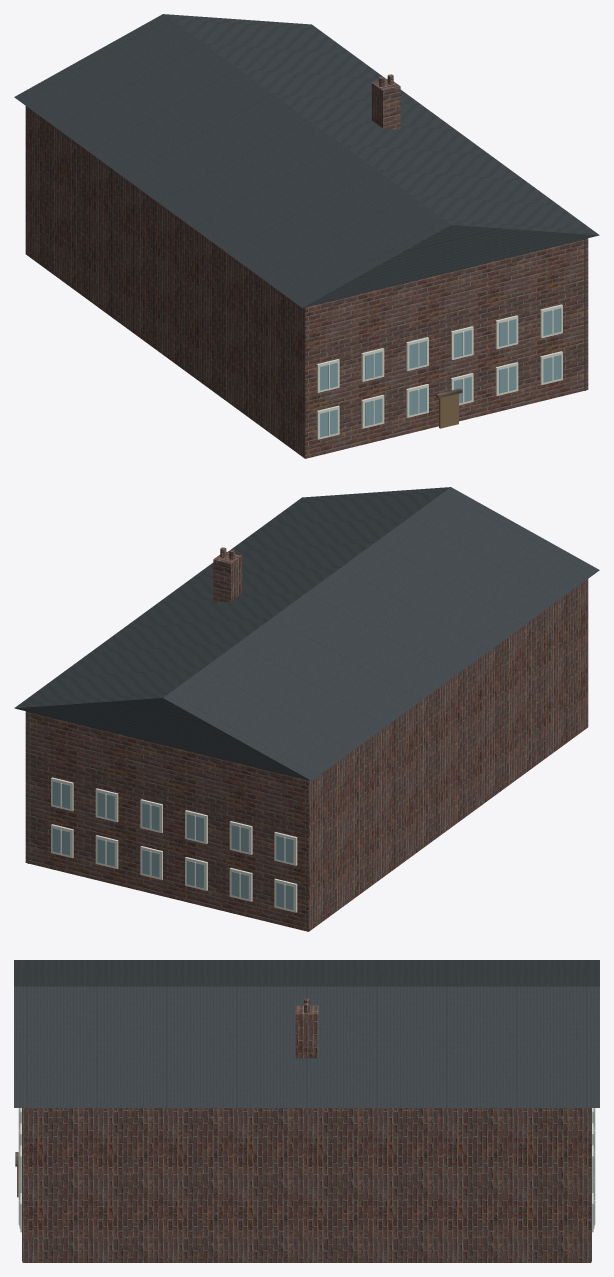
Rendered from britainwarehouse.gltf.
3 views of the same model, one above another, from view 1: azimuth 30°, elevation 25°; view 2: azimuth 150°, elevation 25°; view 3: azimuth 270°, elevation 25° (orthographic).
Parts seen in each view (by area): view 1: britainwarehouse; view 2: britainwarehouse; view 3: britainwarehouse.
Part boxes in pixels (left/top/right/bottom): britainwarehouse: left=14, top=14, right=599, bottom=458; britainwarehouse: left=14, top=487, right=599, bottom=931; britainwarehouse: left=14, top=960, right=599, bottom=1262.
Size of the model in its own units: 40 by 29 by 67.
7 materials, 4 textured.
